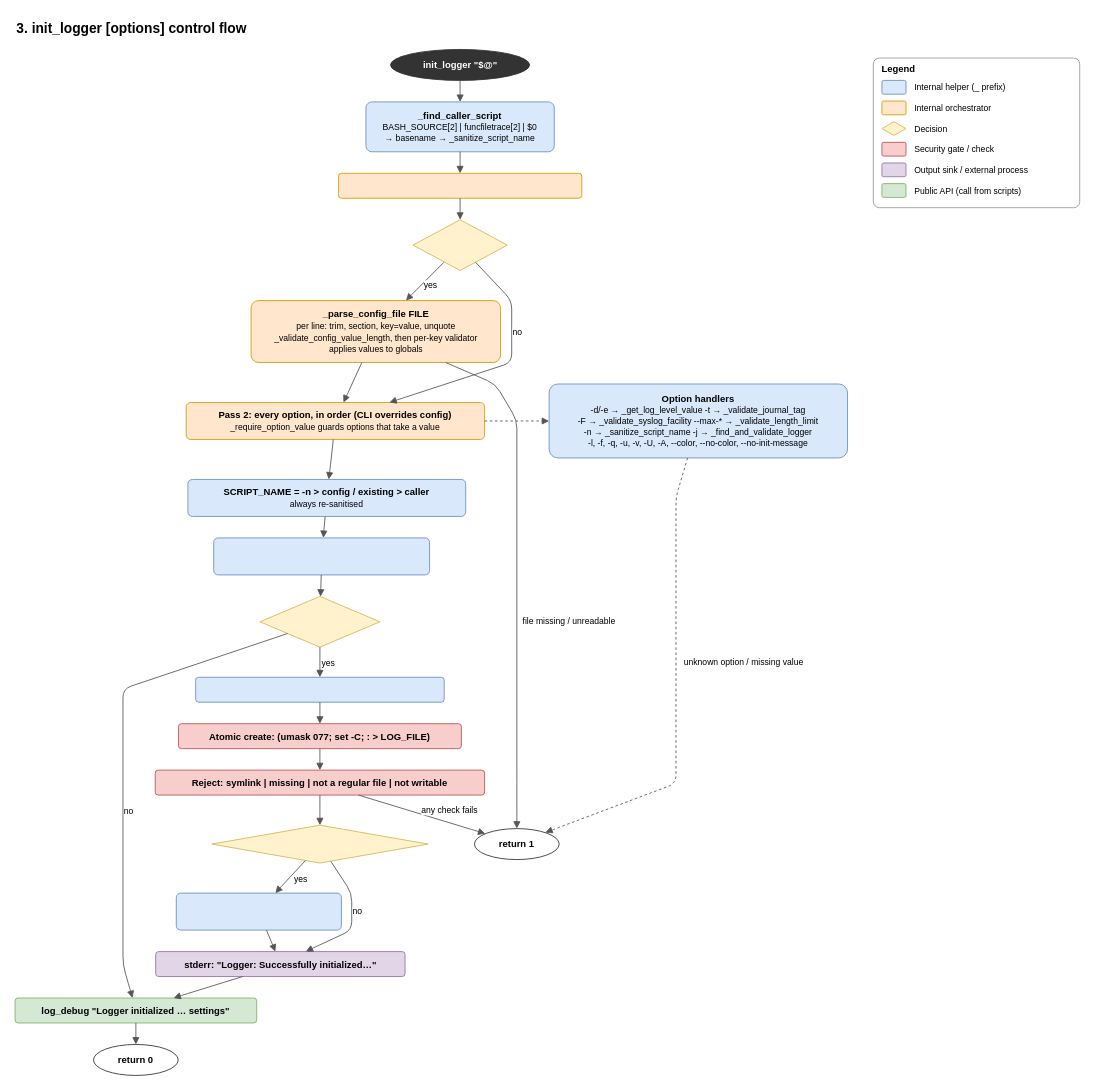
Image size: 1095x1090. Some labels were removed from this diagram. Here are the shapes that lost their labels. From the top down, the centre of each, then its label:
the point at 460,185: Pass 1: scan args for the first -c / --config
the point at 459,244: config given?
the point at 321,556: USE_JOURNAL and no JOURNAL_TAG? → JOURNAL_TAG = SCRIPT_NAME
the point at 319,621: LOG_FILE set?
the point at 319,689: mkdir -p dirname (umask 077, in subshell)
the point at 319,843: LOG_INIT_MESSAGE?
the point at 258,911: Append INIT line _format_log_message_into "INIT"
